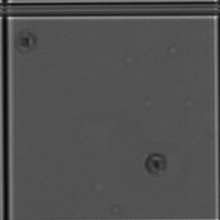Dead Cell: (145, 148, 172, 181), (13, 27, 38, 58)
